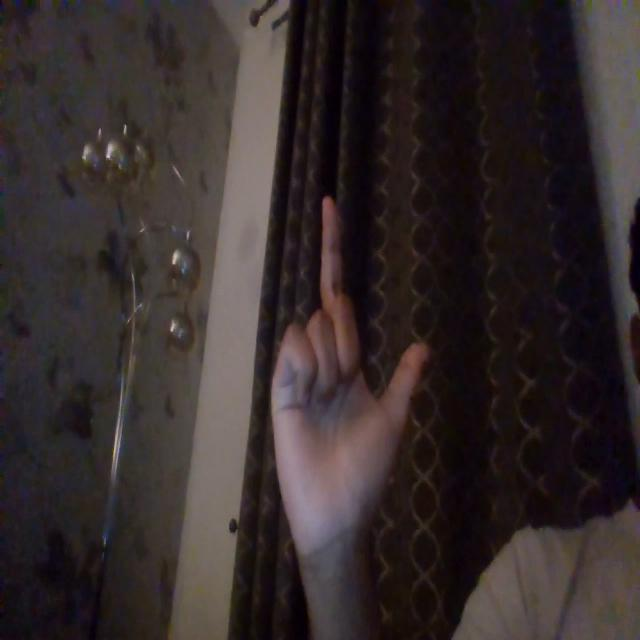hand thumb and index out: (269, 193, 430, 572)
